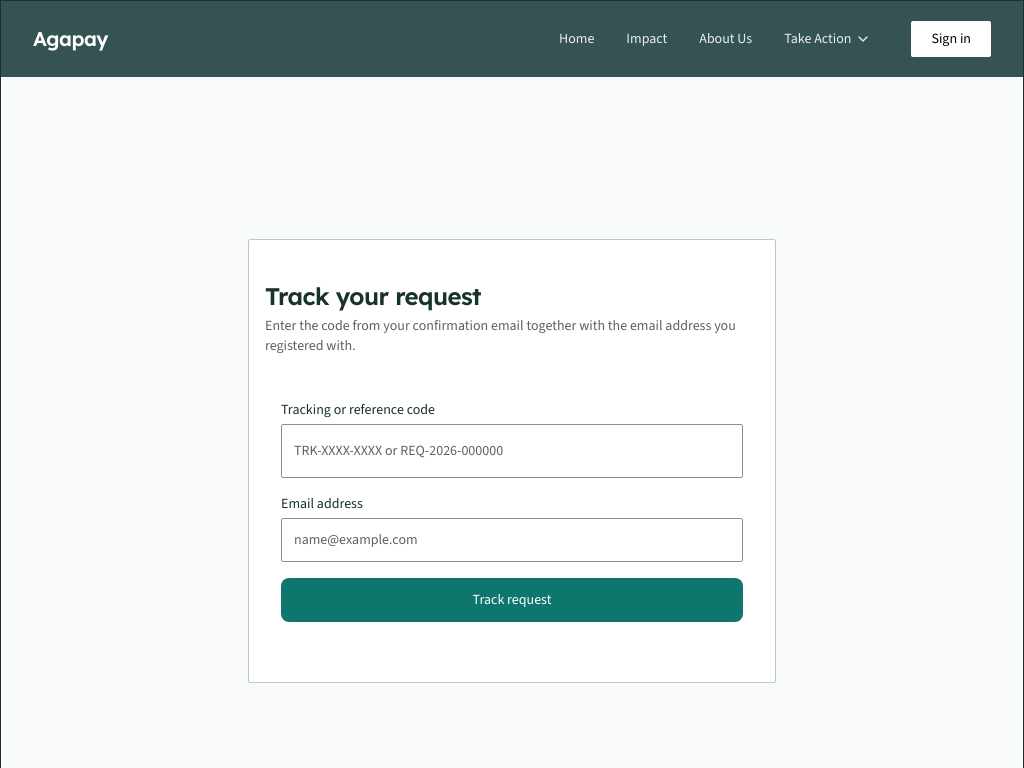
TrackAssistancePage › uses the same landing header as the rest of the public journey
The width and height of the screenshot is (1024, 768).
What coordinates should you click on to do the following:
click the button "Take Action"
I would click on:
 (828, 39)
Its box is [784,17,872,61].
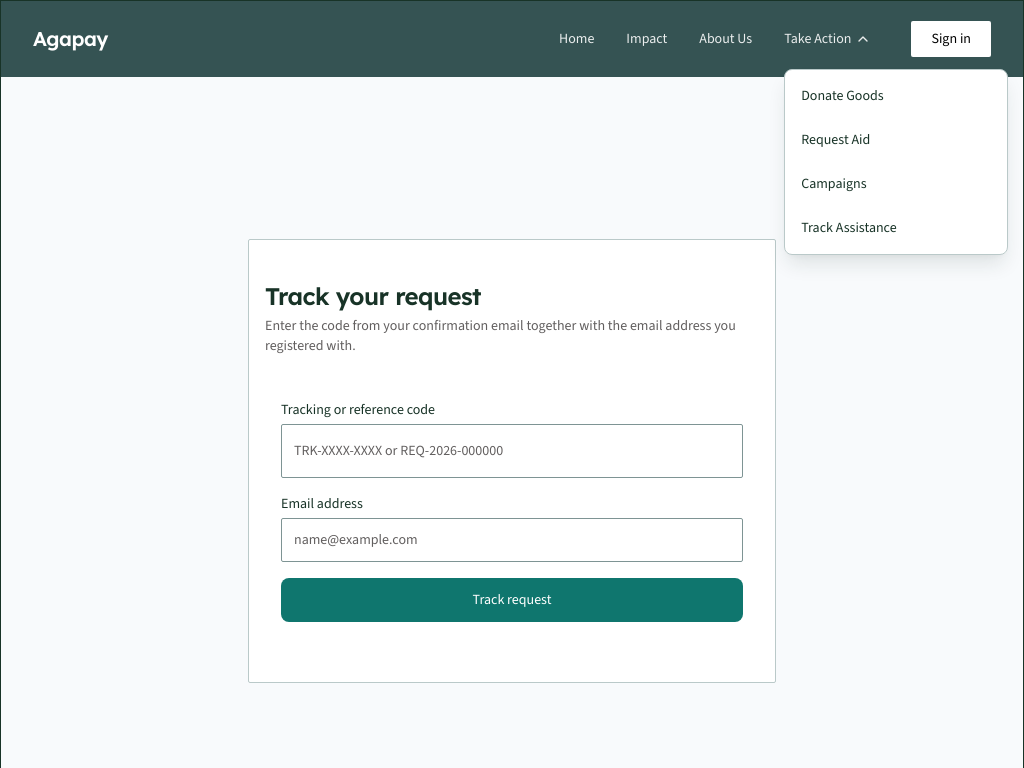
Expected: the menu named "Take action" shows "Donate Goods", [789,74,1003,118]
Expected: the menu named "Take action" shows "Track Assistance", [789,206,1003,250]
